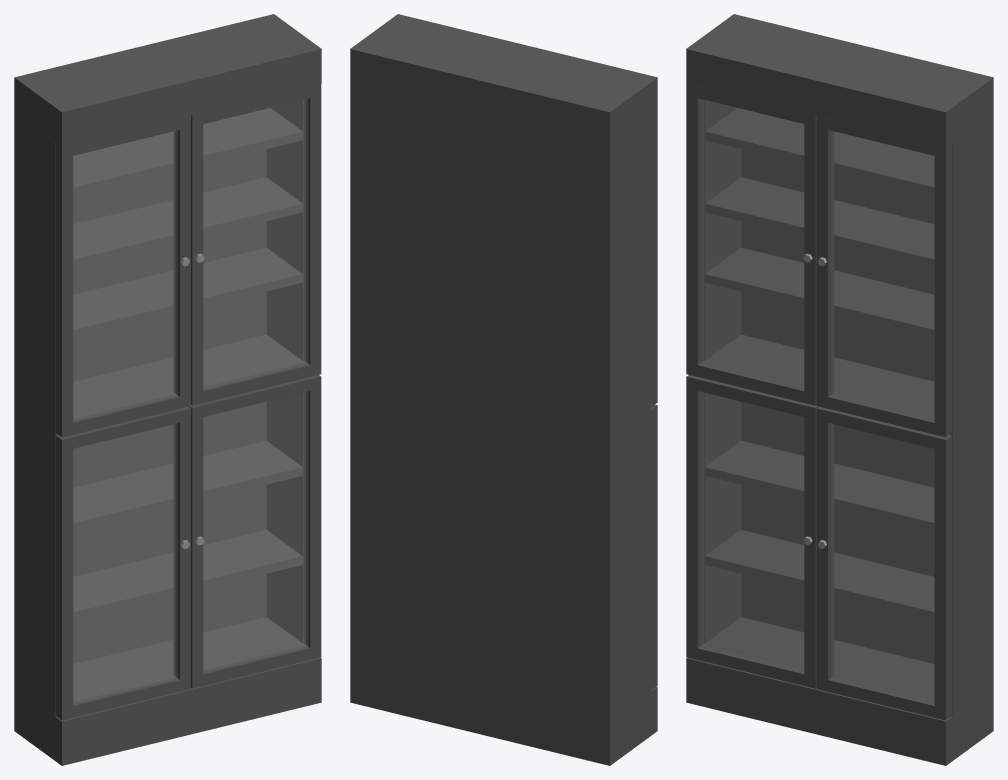
Rendered from ScienceGlassCabinet_02.fbx.
The picture shows the model from 3 angles, left to right: view 1: azimuth 30°, elevation 25°; view 2: azimuth 150°, elevation 25°; view 3: azimuth 330°, elevation 25°; orthographic projection.
Visible parts, largest first — view 1: ScienceGlassCabinet; view 2: ScienceGlassCabinet; view 3: ScienceGlassCabinet.
Part boxes in pixels (left/top/right/bottom): ScienceGlassCabinet: left=14, top=14, right=321, bottom=765; ScienceGlassCabinet: left=350, top=14, right=657, bottom=765; ScienceGlassCabinet: left=686, top=14, right=993, bottom=765.
Bounding box in the file's own units: 458 × 1102 × 151.
